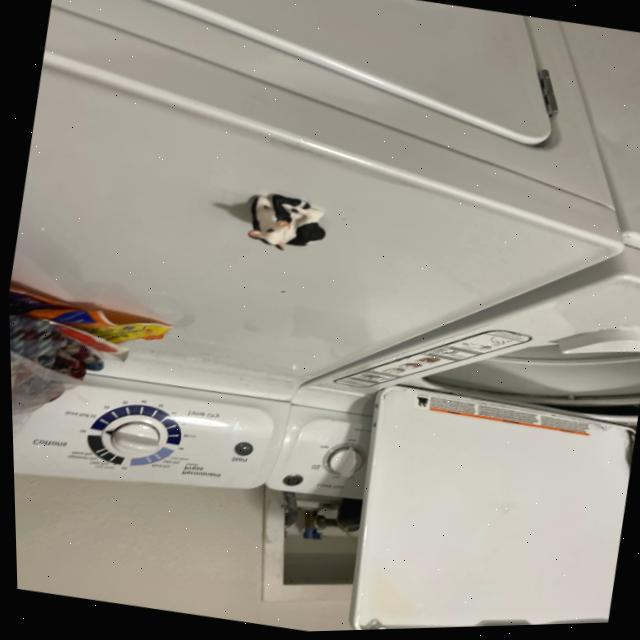cow: (242, 191, 329, 260)
